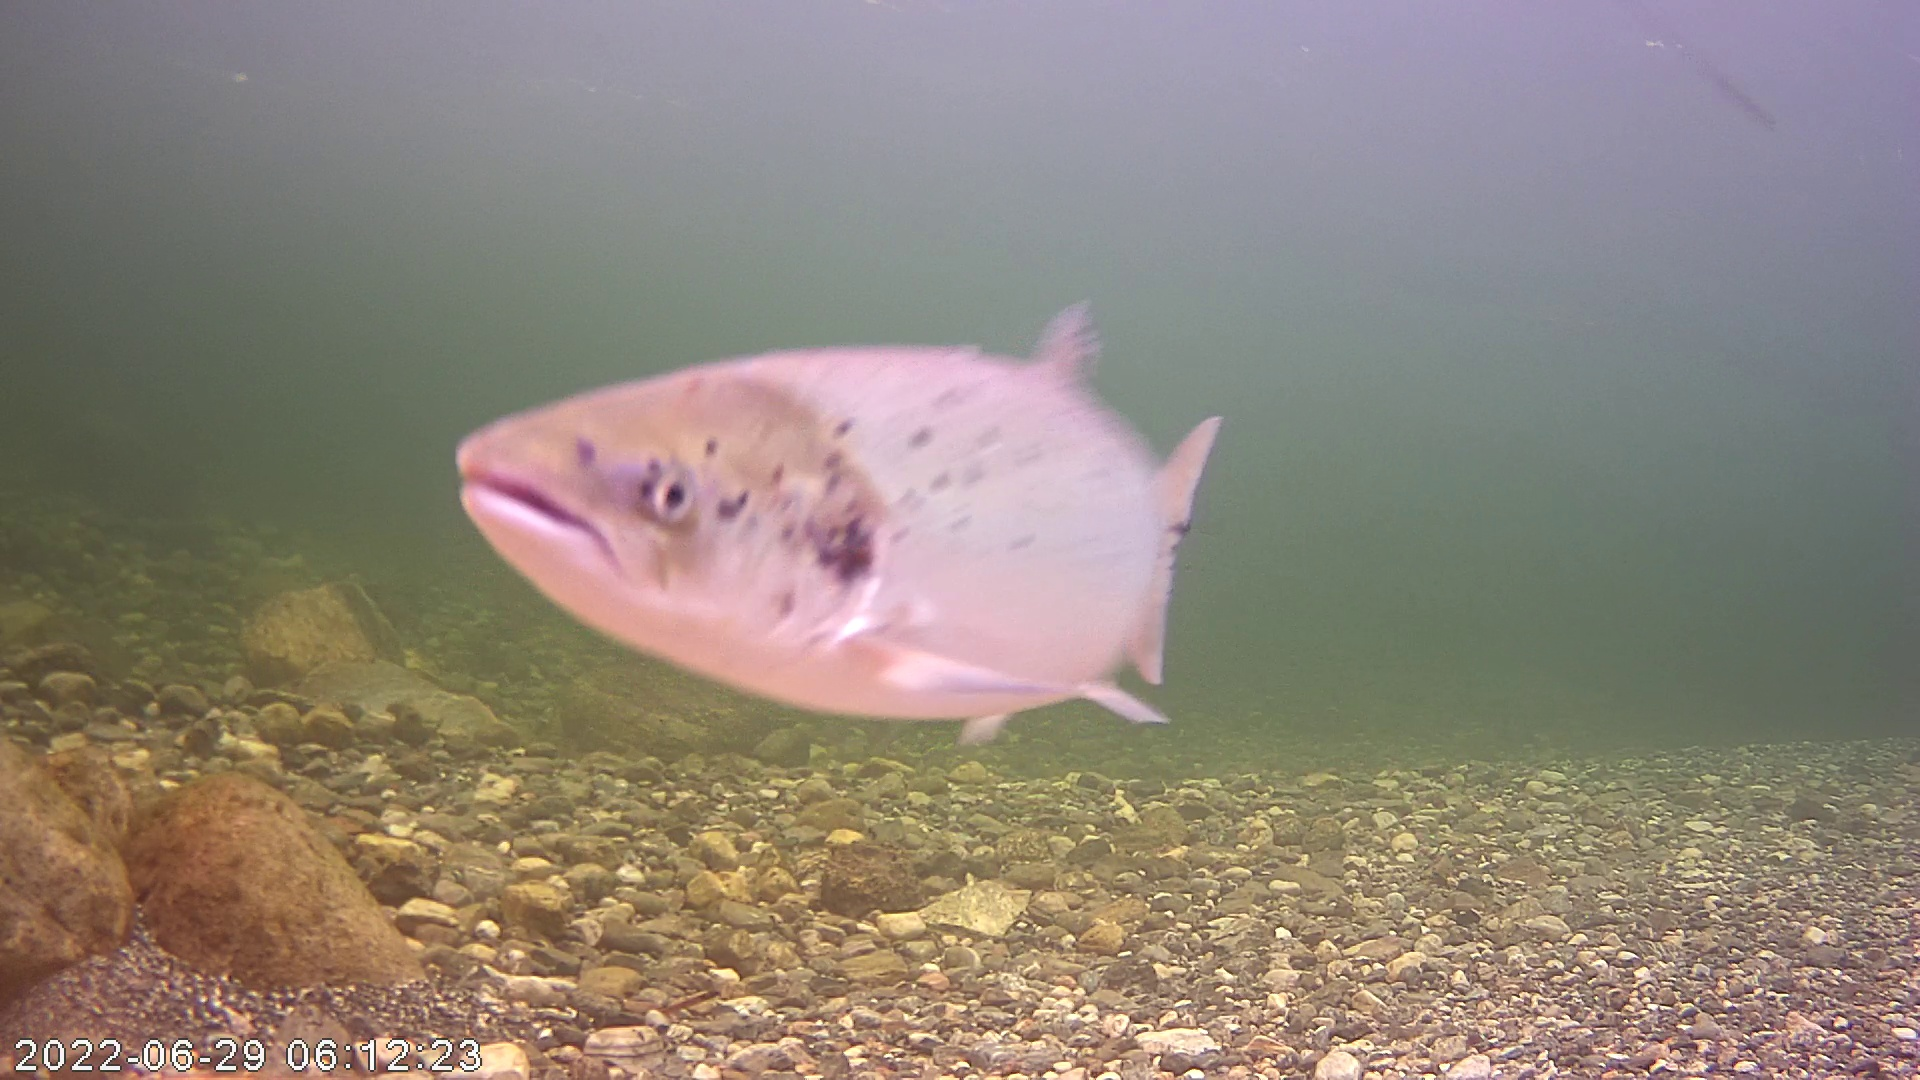salmon: (438, 204, 1242, 746)
